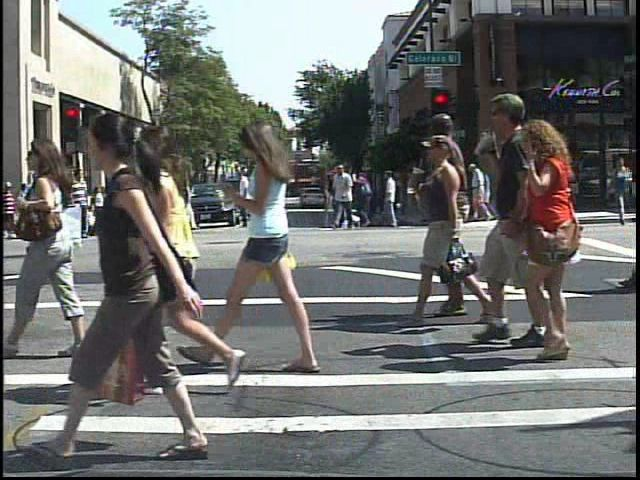person: (63, 99, 213, 468), (132, 120, 258, 398), (214, 110, 332, 378), (446, 83, 554, 352), (0, 129, 98, 364), (513, 113, 592, 361), (109, 161, 143, 242), (64, 163, 94, 242), (467, 158, 498, 230), (24, 168, 50, 243), (4, 175, 20, 241), (97, 179, 117, 224)
